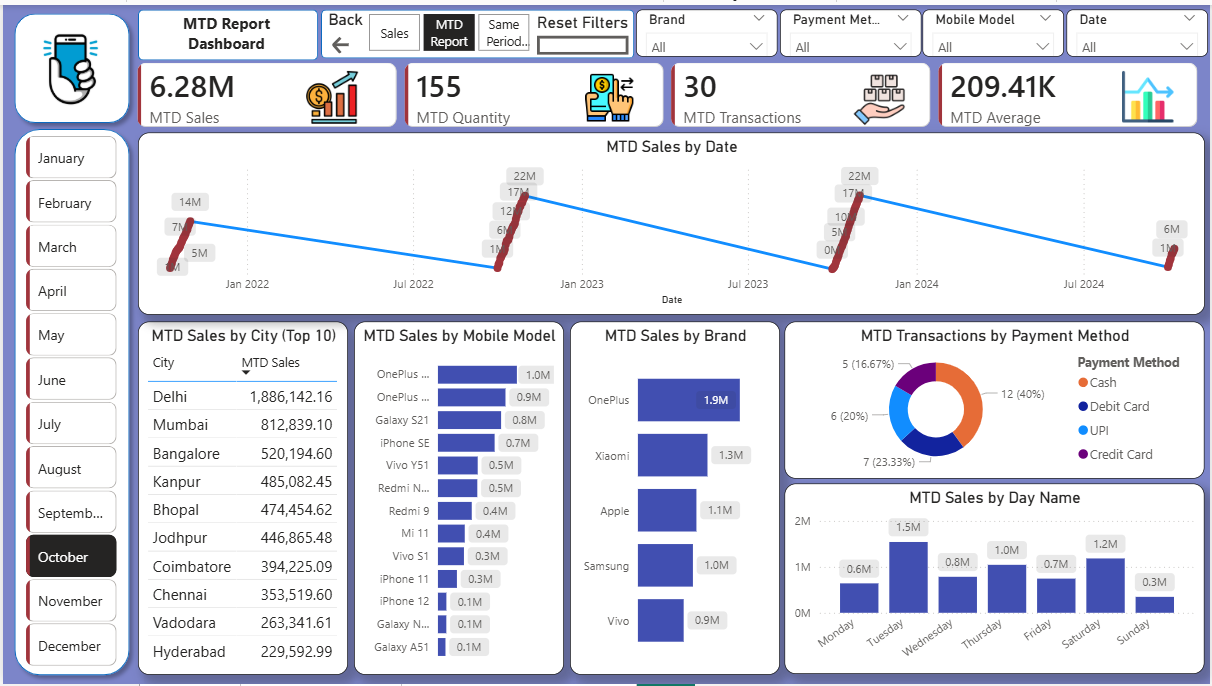

The page's visual inventory and layout, read from the dashboard file:
{"tool":"powerbi","page":{"name":"MTD Report","canvas":[1280,720],"ordinal":1},"visuals":[{"type":"cardVisual","fields":{"Data":["Sheet1.MTD Sales","Sheet1.MTD Quantity","Sheet1.MTD Transactions","Sheet1.MTD Average"]},"box":[130,49.3,1150,108.2],"z":0},{"type":"shape","box":[3.8,0,139.8,134.2],"z":1000},{"type":"image","box":[0,19.1,143.2,97],"z":2000},{"type":"shape","box":[3.8,122.8,139.8,597.2],"z":3000},{"type":"advancedSlicerVisual","fields":{"Values":["Calendar.Month Name"]},"box":[19.1,133.6,106.6,577.4],"z":4000},{"type":"tableEx","title":"MTD Sales by City (Top 10)","fields":{"Values":["Sheet1.City","Sheet1.MTD Sales"]},"box":[142.8,335.6,222.5,374.5],"z":5000},{"type":"shape","box":[143.2,4.8,190.9,54.1],"z":6000},{"type":"shape","box":[337.2,4.8,332,52],"z":7000},{"type":"textbox","box":[165.4,3.2,143.2,58.9],"z":8000},{"type":"lineChart","fields":{"Y":["Sheet1.MTD Sales"],"Category":["Calendar.Date"]},"box":[142.8,135.4,1131,193],"z":9000},{"type":"slicer","fields":{"Values":["Sheet1.Payment Method"]},"box":[822.9,4.8,150.2,50.1],"z":10000,"group":"g1"},{"type":"clusteredBarChart","fields":{"Category":["Sheet1.Mobile Model"],"Y":["Sheet1.MTD Sales"]},"box":[372.7,335.6,222.5,374.5],"z":10000},{"type":"slicer","fields":{"Values":["Sheet1.Mobile Model"]},"box":[975,4.8,150.2,50.1],"z":11000,"group":"g1"},{"type":"clusteredBarChart","fields":{"Category":["Sheet1.Brand"],"Y":["Sheet1.MTD Sales"]},"box":[600.8,335.6,222.5,374.5],"z":11000},{"type":"clusteredColumnChart","fields":{"Y":["Sheet1.MTD Sales"],"Category":["Sheet1.Day Name"]},"box":[828.8,508,445,202.1],"z":12000},{"type":"donutChart","fields":{"Y":["Sheet1.MTD Transactions"],"Category":["Sheet1.Payment Method"]},"box":[828.8,335.6,445,166.9],"z":13000},{"type":"group","id":"g1","title":"Group 1","box":[670.9,4.8,606.3,50.1],"z":14000},{"type":"slicer","fields":{"Values":["Sheet1.Brand"]},"box":[670.9,4.8,150.2,50.1],"z":15000,"group":"g1"},{"type":"image","box":[320.8,57.5,55.6,81.6],"z":15000},{"type":"image","box":[1187,56.6,54.7,80],"z":16000},{"type":"image","box":[901.9,60.5,54.7,80],"z":17000},{"type":"image","box":[615,56.6,54.7,82],"z":18000},{"type":"actionButton","title":"Back","box":[345.2,4.8,42.9,50.9],"z":19000},{"type":"pageNavigator","box":[388.1,9.5,170.2,39.8],"z":20000},{"type":"actionButton","title":"Reset Filters","box":[566.3,8,97,44.5],"z":21000},{"type":"slicer","fields":{"Values":["Calendar.Date.Variation.Date Hierarchy.Year","Calendar.Date.Variation.Date Hierarchy.Quarter","Calendar.Date.Variation.Date Hierarchy.Month","Calendar.Date.Variation.Date Hierarchy.Day"]},"box":[1127,4.8,150.2,50.1],"z":21001,"group":"g1"}]}

Visuals, with their boxes in screenshot pixels (x1, y1, x2, y2), scaled from the page's 1280x720 canvas onto the 1212x686 screenshot:
cardVisual - Sheet1.MTD Sales x Sheet1.MTD Quantity: box(123, 47, 1211, 150)
shape: box(4, 0, 136, 128)
image: box(0, 18, 136, 111)
shape: box(4, 117, 136, 685)
advancedSlicerVisual - Calendar.Month Name: box(18, 127, 119, 677)
"MTD Sales by City (Top 10)" tableEx: box(135, 320, 346, 677)
shape: box(136, 5, 316, 56)
shape: box(319, 5, 634, 54)
textbox: box(157, 3, 292, 59)
lineChart - Sheet1.MTD Sales x Calendar.Date: box(135, 129, 1206, 313)
slicer - Sheet1.Payment Method: box(779, 5, 921, 52)
clusteredBarChart - Sheet1.Mobile Model x Sheet1.MTD Sales: box(353, 320, 564, 677)
slicer - Sheet1.Mobile Model: box(923, 5, 1065, 52)
clusteredBarChart - Sheet1.Brand x Sheet1.MTD Sales: box(569, 320, 780, 677)
clusteredColumnChart - Sheet1.MTD Sales x Sheet1.Day Name: box(785, 484, 1206, 677)
donutChart - Sheet1.MTD Transactions x Sheet1.Payment Method: box(785, 320, 1206, 479)
"Group 1" group: box(635, 5, 1209, 52)
slicer - Sheet1.Brand: box(635, 5, 777, 52)
image: box(304, 55, 356, 133)
image: box(1124, 54, 1176, 130)
image: box(854, 58, 906, 134)
image: box(582, 54, 634, 132)
"Back" actionButton: box(327, 5, 367, 53)
pageNavigator: box(367, 9, 529, 47)
"Reset Filters" actionButton: box(536, 8, 628, 50)
slicer - Calendar.Date.Variation.Date Hierarchy.Year x Calendar.Date.Variation.Date Hierarchy.Quarter: box(1067, 5, 1209, 52)
